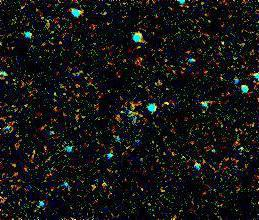star: (153, 90, 183, 120)
